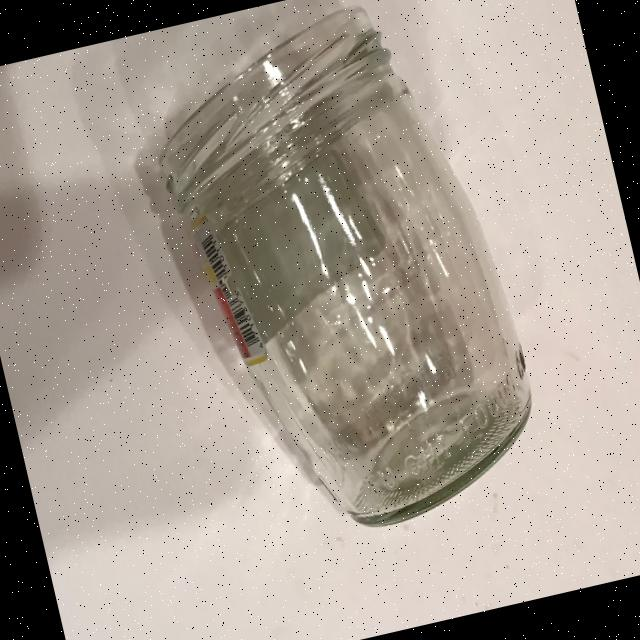glass: (131, 0, 555, 557)
